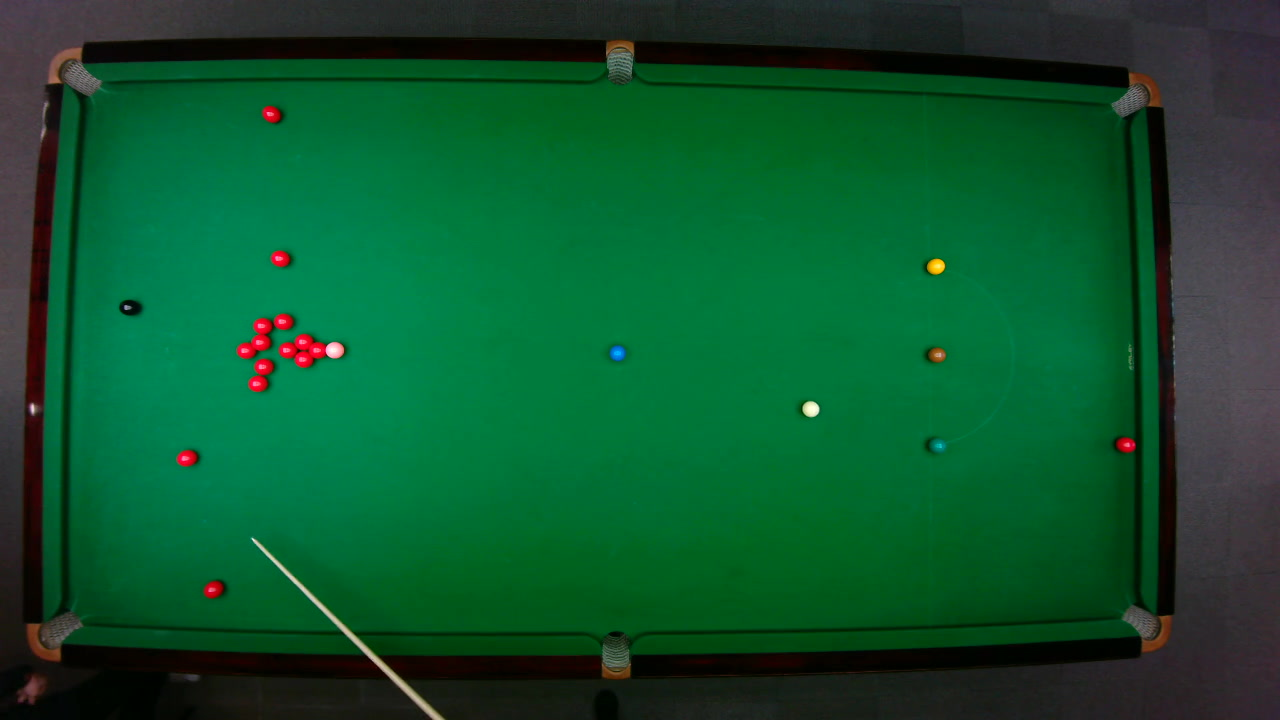bag: (25, 609, 84, 661), (45, 46, 102, 96), (1119, 603, 1172, 652), (1108, 71, 1161, 118), (600, 629, 629, 680), (605, 38, 633, 85)
black: (117, 298, 140, 315)
blue: (608, 343, 626, 361)
brown: (926, 346, 946, 362)
cue: (249, 536, 443, 719)
green: (926, 435, 946, 453)
pink: (323, 340, 345, 359)
red: (202, 578, 224, 599), (175, 448, 198, 467), (1113, 435, 1137, 453), (260, 104, 281, 123), (246, 374, 268, 392), (252, 357, 274, 375), (268, 249, 290, 267), (234, 341, 256, 359), (251, 316, 272, 334), (272, 312, 293, 330), (249, 333, 270, 351), (292, 350, 314, 367), (277, 340, 297, 358), (293, 332, 313, 349), (308, 340, 325, 358)
white: (799, 399, 820, 417)
yellow: (925, 257, 945, 274)
zone: (926, 267, 1014, 444)
